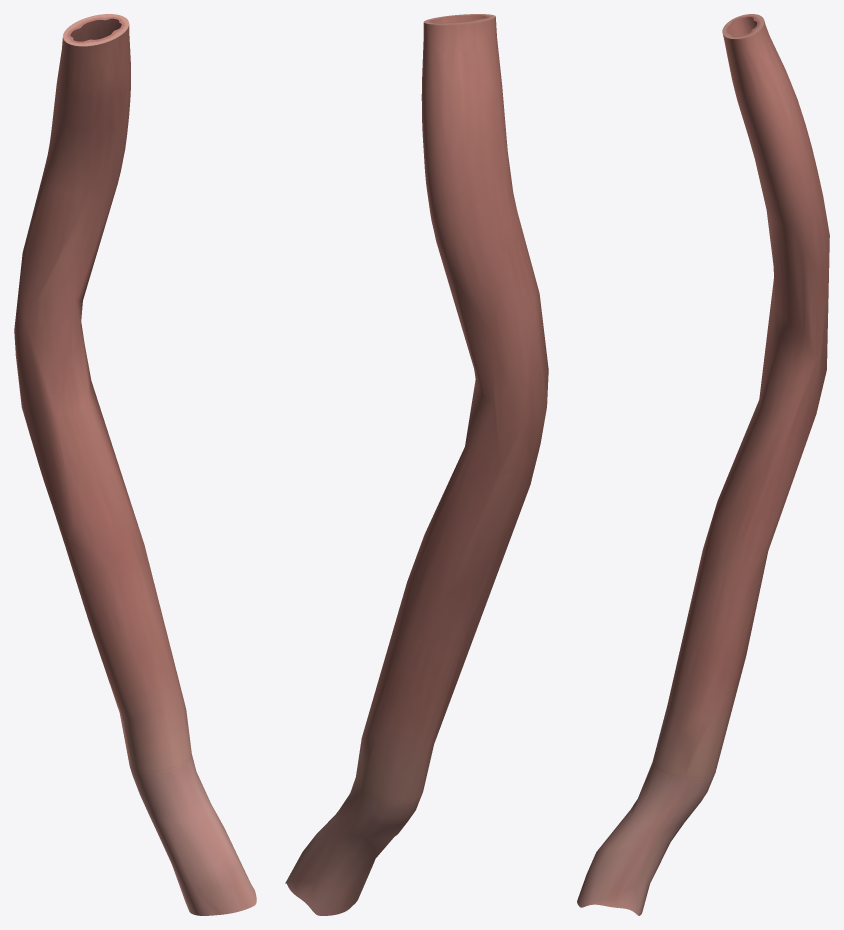
Rendered from overview.glb.
3 renders of one model, left to right at view 1: azimuth 30°, elevation 25°; view 2: azimuth 210°, elevation 25°; view 3: azimuth 270°, elevation 25°, orthographic. The views are drawn at different scales.
Visible parts, largest first — view 1: esophagus; view 2: esophagus; view 3: esophagus.
Boxes of the visible parts, x1,y1,x2,y2 form: esophagus: (14,14,256,915); esophagus: (285,14,548,915); esophagus: (577,14,829,915).
Size of the model in its own units: 0.0382 by 0.2214 by 0.0591.
Materials: 9 (9 with a texture image).
